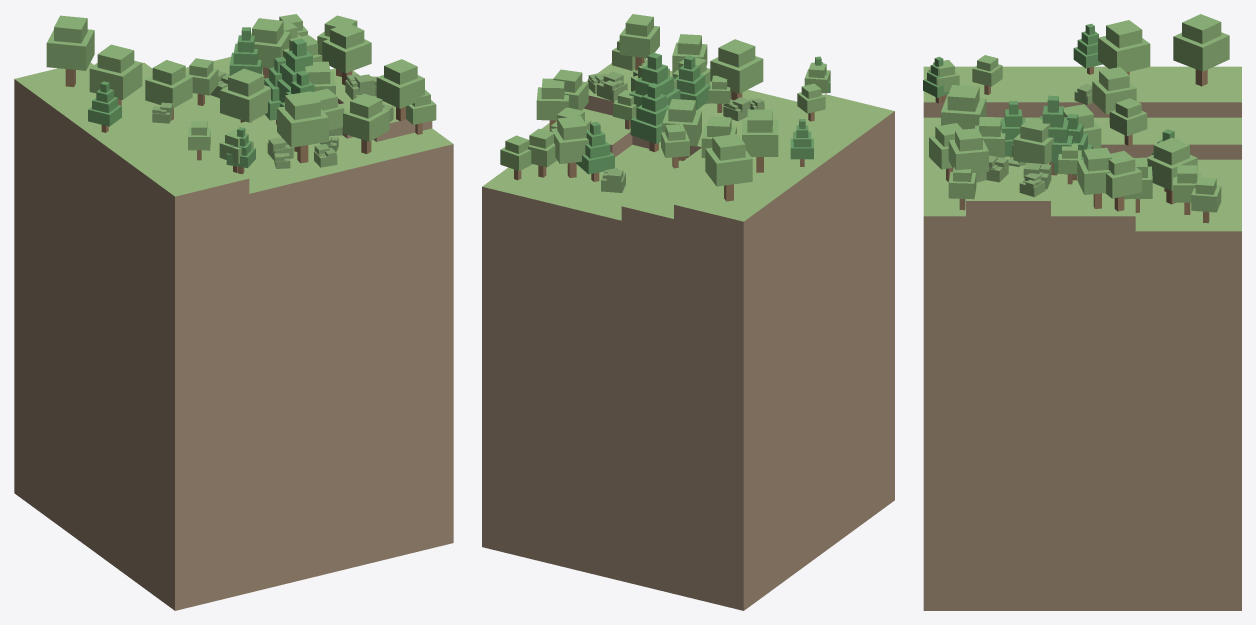
Rendered from block_3_terracing_100.glb.
The picture shows the model from 3 angles, left to right: view 1: azimuth 30°, elevation 25°; view 2: azimuth 150°, elevation 25°; view 3: azimuth 270°, elevation 25°; orthographic projection. The views are drawn at different scales.
Visible parts, largest first — view 1: Patch_UpperLeft_b08_TR, TR_Veg_03_016, TR_Veg_03_002, TR_Veg_03_018, TR_Veg_03_011, TR_Veg_03_009, TR_Veg_03_007, TR_Veg_03_020, TR_Veg_03_039, TR_Veg_03_026, TR_Veg_03_034, TR_Veg_03_015 (+10 smaller); view 2: Patch_UpperLeft_b08_TR, TR_Veg_03_002, TR_Veg_03_016, TR_Veg_03_018, TR_Veg_03_025, TR_Veg_03_026, TR_Veg_03_007, TR_Veg_03_034, TR_Veg_03_033, TR_Veg_03_011, TR_Veg_03_008, TR_Veg_03_021 (+12 smaller); view 3: Patch_UpperLeft_b08_TR, TR_Veg_03_002, TR_Veg_03_018, TR_Veg_03_026, TR_Veg_03_016, TR_Veg_03_006, TR_Veg_03_008, TR_Veg_03_007, TR_Veg_03_039, TR_Veg_03_009, TR_Veg_03_034, TR_Veg_03_029 (+16 smaller).
Boxes of the visible parts, box(x1,y1,x2,y2) form: Patch_UpperLeft_b08_TR: box(14, 57, 453, 610); TR_Veg_03_016: box(277, 91, 328, 163); TR_Veg_03_002: box(46, 15, 94, 86); TR_Veg_03_018: box(89, 44, 142, 105); TR_Veg_03_011: box(220, 68, 270, 122); TR_Veg_03_009: box(322, 23, 371, 85); TR_Veg_03_007: box(376, 59, 424, 121); TR_Veg_03_020: box(343, 93, 389, 153); TR_Veg_03_039: box(145, 60, 192, 120); TR_Veg_03_026: box(251, 18, 290, 78); TR_Veg_03_034: box(277, 38, 312, 102); TR_Veg_03_015: box(88, 81, 121, 132); Patch_UpperLeft_b08_TR: box(482, 63, 894, 610); TR_Veg_03_002: box(705, 134, 752, 201); TR_Veg_03_016: box(710, 39, 763, 100); TR_Veg_03_018: box(742, 109, 778, 172); TR_Veg_03_025: box(630, 83, 669, 152); TR_Veg_03_026: box(551, 116, 588, 177); TR_Veg_03_007: box(619, 14, 659, 70); TR_Veg_03_034: box(629, 52, 680, 107); TR_Veg_03_033: box(576, 122, 614, 181); TR_Veg_03_011: box(662, 99, 701, 160); TR_Veg_03_008: box(536, 78, 569, 131); TR_Veg_03_021: box(674, 55, 710, 110); Patch_UpperLeft_b08_TR: box(923, 66, 1241, 610); TR_Veg_03_002: box(1173, 14, 1229, 86); TR_Veg_03_018: box(1098, 20, 1150, 75); TR_Veg_03_026: box(1147, 138, 1197, 204); TR_Veg_03_016: box(941, 85, 986, 129); TR_Veg_03_006: box(1013, 117, 1053, 164); TR_Veg_03_008: box(1106, 151, 1141, 211); TR_Veg_03_007: box(948, 128, 988, 173); TR_Veg_03_039: box(1092, 67, 1136, 124); TR_Veg_03_009: box(1077, 147, 1111, 208); TR_Veg_03_034: box(1039, 95, 1072, 175); TR_Veg_03_029: box(1110, 98, 1147, 145).
Size of the model in its own units: 9.72 by 15.53 by 9.52.
